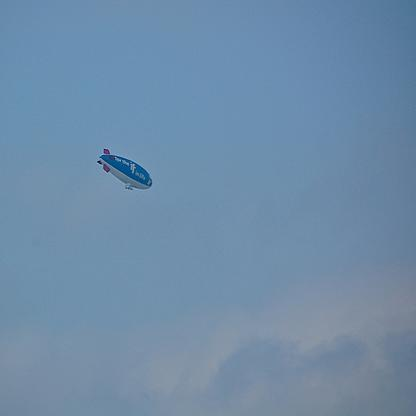Airship: (93, 144, 158, 197)
